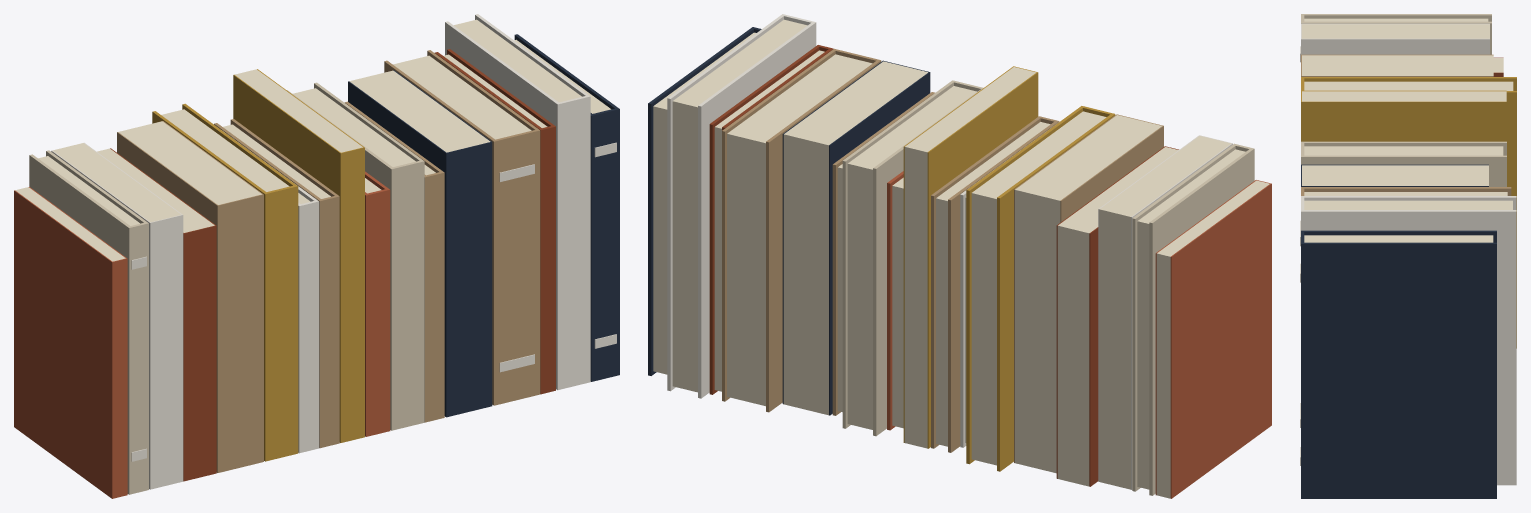
3 renders of one model, left to right at view 1: azimuth 30°, elevation 25°; view 2: azimuth 150°, elevation 25°; view 3: azimuth 270°, elevation 25°, orthographic. The views are drawn at different scales.
Visible parts, largest first — view 1: book, book.004, book.012, book.013, book.015, book.008, book.005, book.010, book.002, book.001, book.003, book.016 (+5 smaller); view 2: book, book.013, book.012, book.015, book.004, book.005, book.008, book.010, book.002, book.003, book.001, book.007 (+5 smaller); view 3: book.016, book.015, book.008, book.002, book.010, book.004, book.012, book.005, book.001, book.013.
Part boxes in pixels (x1=…): book: x1=14, y1=187, x2=127, y2=498; book.004: x1=117, y1=121, x2=263, y2=472; book.012: x1=348, y1=70, x2=492, y2=417; book.013: x1=384, y1=50, x2=540, y2=405; book.015: x1=445, y1=14, x2=590, y2=390; book.008: x1=233, y1=69, x2=364, y2=442; book.005: x1=152, y1=103, x2=298, y2=461; book.010: x1=286, y1=82, x2=424, y2=430; book.002: x1=51, y1=142, x2=183, y2=489; book.001: x1=29, y1=150, x2=148, y2=494; book.003: x1=97, y1=148, x2=216, y2=481; book.016: x1=514, y1=34, x2=619, y2=381; book: x1=1155, y1=180, x2=1271, y2=498; book.013: x1=722, y1=48, x2=881, y2=412; book.012: x1=782, y1=60, x2=930, y2=415; book.015: x1=667, y1=14, x2=816, y2=398; book.004: x1=1014, y1=114, x2=1163, y2=473; book.005: x1=966, y1=106, x2=1115, y2=471; book.008: x1=903, y1=66, x2=1038, y2=448; book.010: x1=842, y1=80, x2=983, y2=436; book.002: x1=1098, y1=135, x2=1232, y2=489; book.003: x1=1056, y1=146, x2=1178, y2=486; book.001: x1=1132, y1=143, x2=1254, y2=495; book.007: x1=931, y1=116, x2=1059, y2=452; book.016: x1=1300, y1=230, x2=1496, y2=498; book.015: x1=1301, y1=196, x2=1516, y2=485; book.008: x1=1301, y1=90, x2=1506, y2=141; book.002: x1=1301, y1=23, x2=1489, y2=54; book.010: x1=1301, y1=141, x2=1506, y2=186; book.004: x1=1301, y1=54, x2=1493, y2=76; book.012: x1=1301, y1=164, x2=1488, y2=186; book.005: x1=1301, y1=77, x2=1516, y2=348; book.001: x1=1300, y1=14, x2=1491, y2=246; book.013: x1=1300, y1=187, x2=1511, y2=427.
Bounding box in the file's own units: 0.4617 × 0.2518 × 0.1783.
